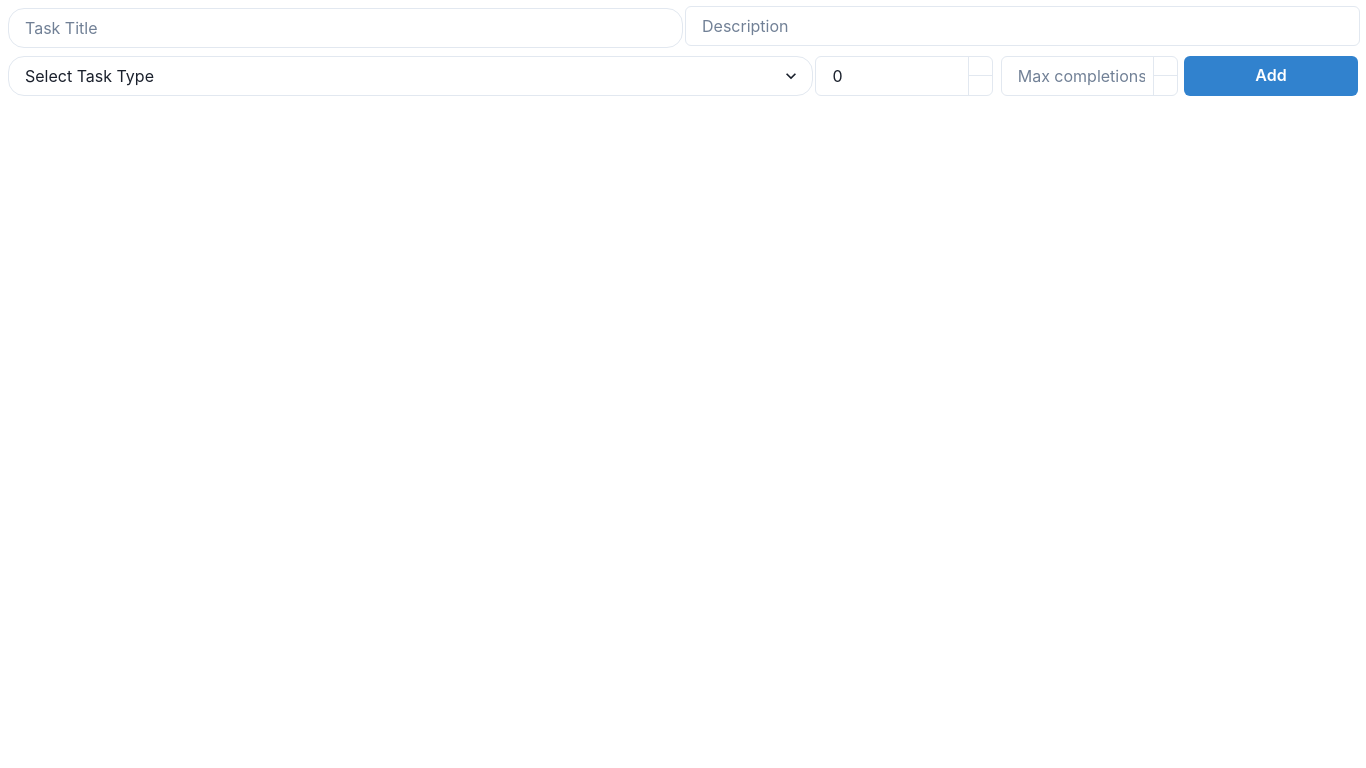
Test: TaskCreation (improvements item 15) › creates a task end to end and clears the form
In the field with placeholder "Task Title": (346, 28) [8,8,683,48], type "Find the clue"
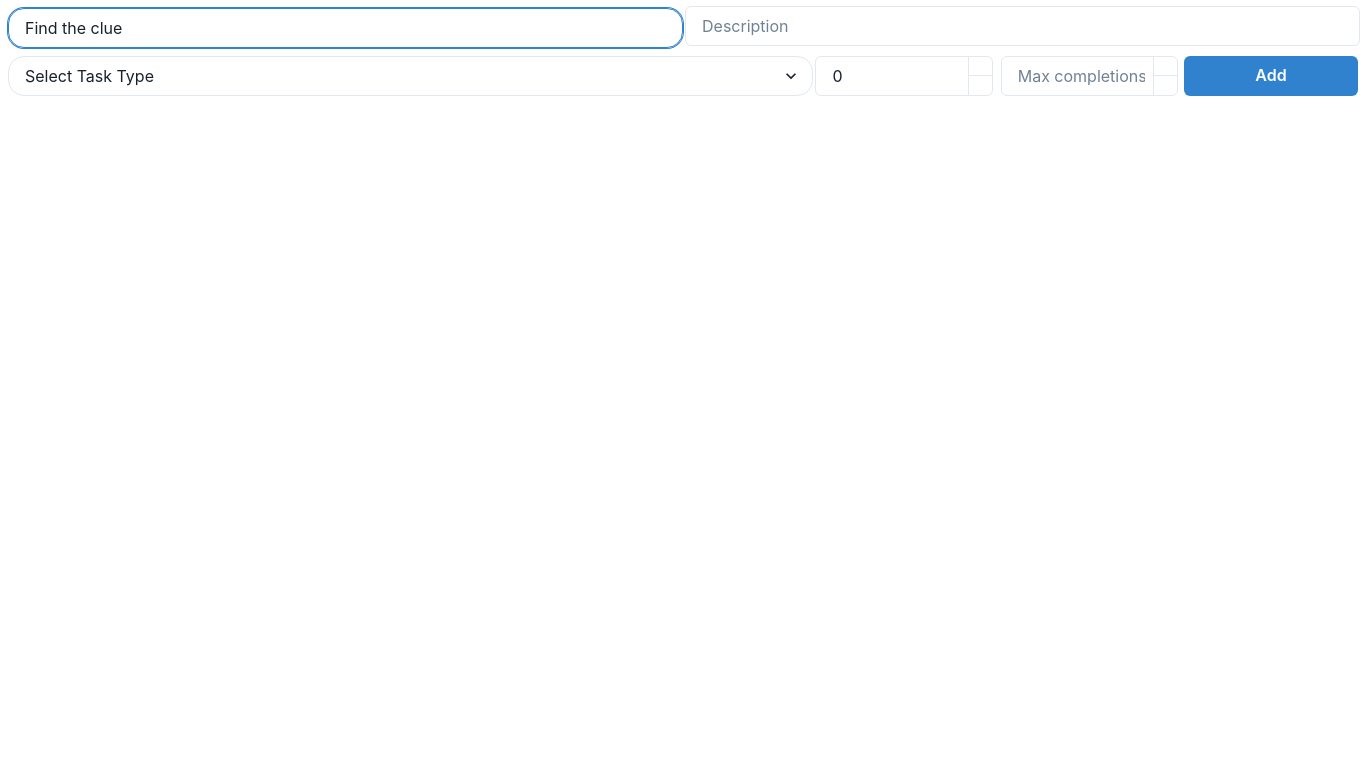
Select "Revival Mission" in the dropdown: (411, 76) [8,56,813,96]
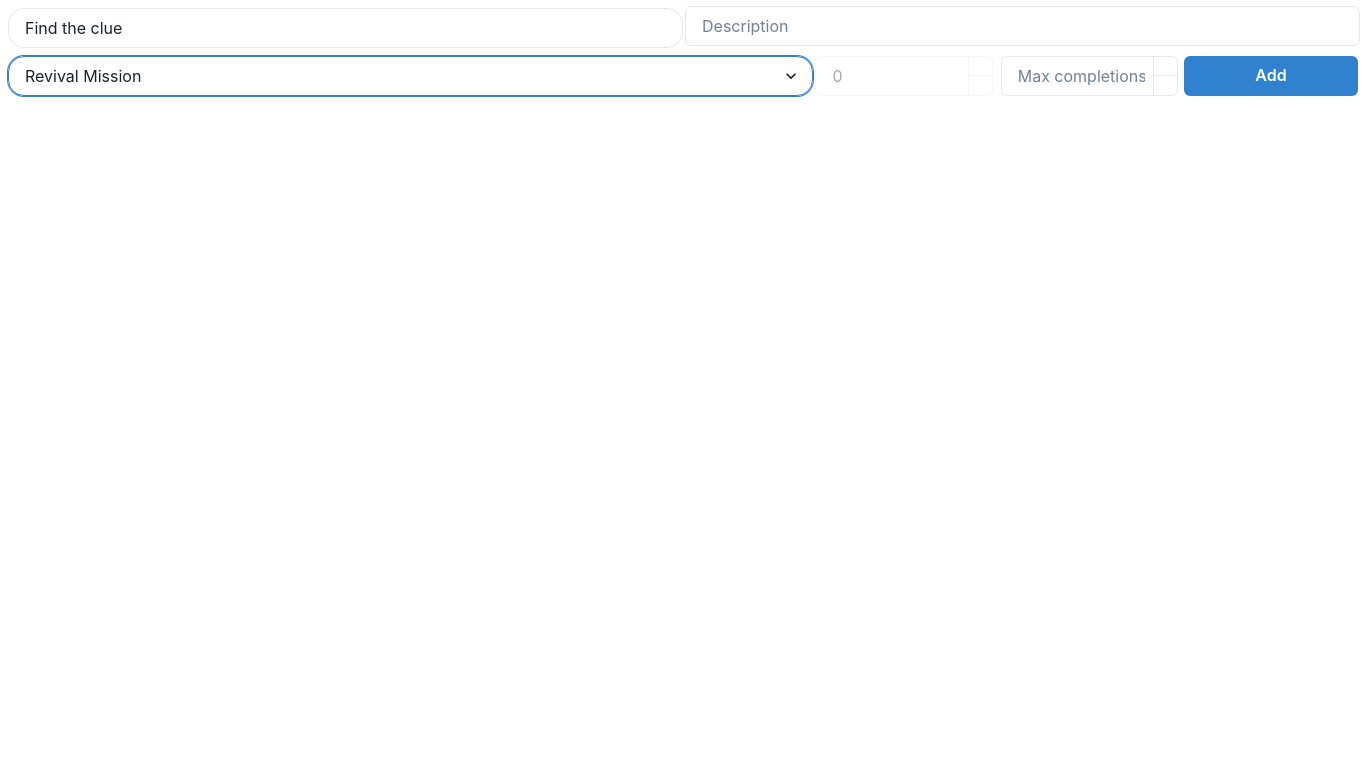
Click the button "Add": (1271, 76) [1184,56,1358,96]
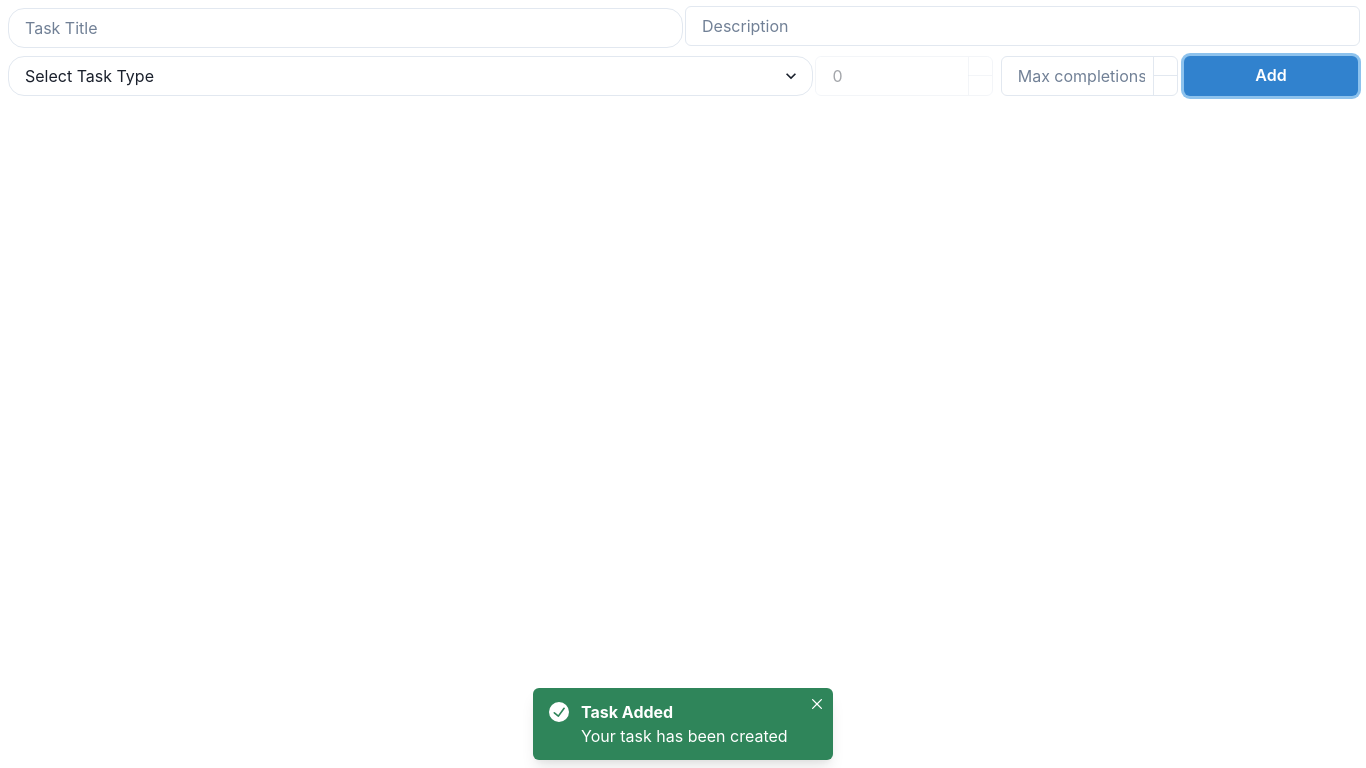
Check: the text "Task Added" is shown, box [581,702,673,722]
Check: the field with placeholder "Task Title" is empty, box [8,8,683,48]
